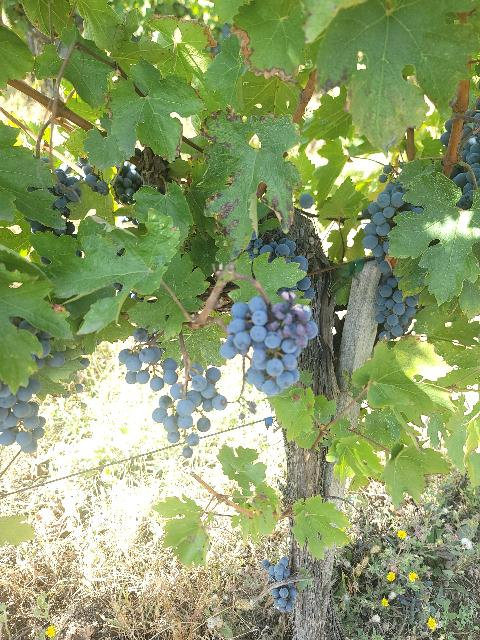grapes: (220, 291, 318, 398), (362, 182, 424, 340), (152, 364, 228, 444), (119, 328, 179, 391), (261, 556, 298, 612), (182, 431, 200, 458), (195, 416, 211, 432)
